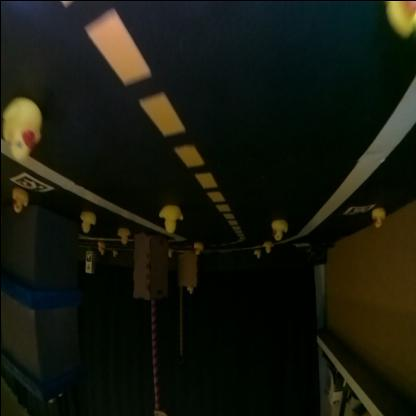Duckie: (2, 99, 38, 158), (156, 204, 180, 234), (10, 190, 26, 212), (372, 207, 386, 229), (270, 221, 286, 240), (79, 212, 93, 232), (116, 228, 128, 244), (262, 241, 270, 254), (192, 244, 199, 256), (253, 251, 259, 259), (111, 250, 117, 258), (167, 250, 173, 258), (186, 287, 191, 295), (98, 242, 102, 249)
QR code: (9, 172, 51, 194), (344, 204, 370, 216)
